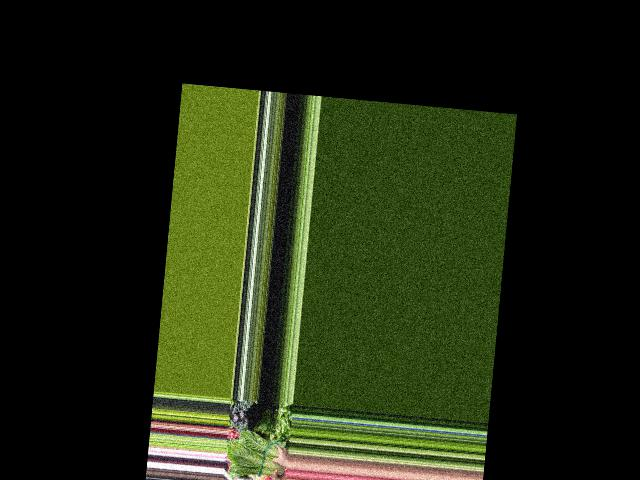lettuce: (227, 428, 291, 480)
